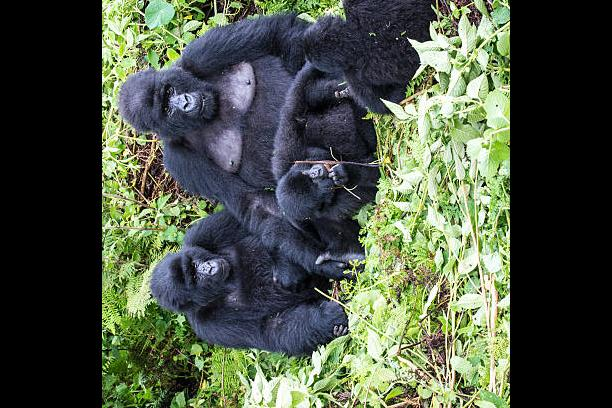goriile_montagne: (111, 11, 298, 235), (133, 219, 352, 357), (270, 59, 394, 229), (297, 0, 421, 112)
